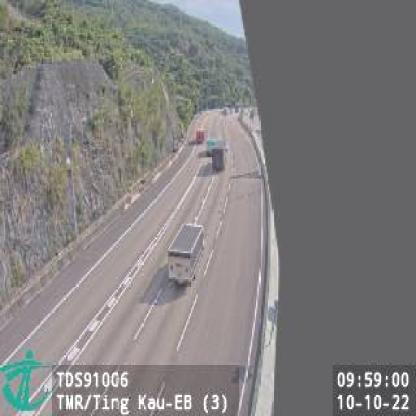Truck: (167, 222, 206, 286), (209, 143, 226, 170)
